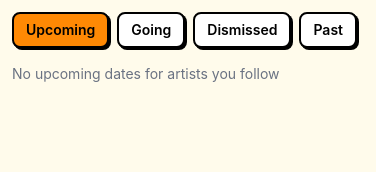
Test: LiveList › gives each filter its own empty message
Expected: the text "No upcoming dates for artists you follow" is shown, top-left (12, 65), bottom-right (280, 82)
Click the button "Going".
click(151, 30)  # box top-left (117, 12), bottom-right (185, 48)
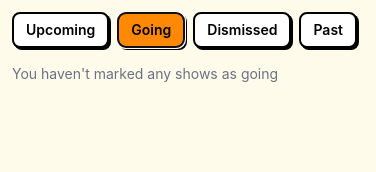
Expected: the text "You haven't marked any shows as going" is shown, top-left (12, 65), bottom-right (278, 82)
